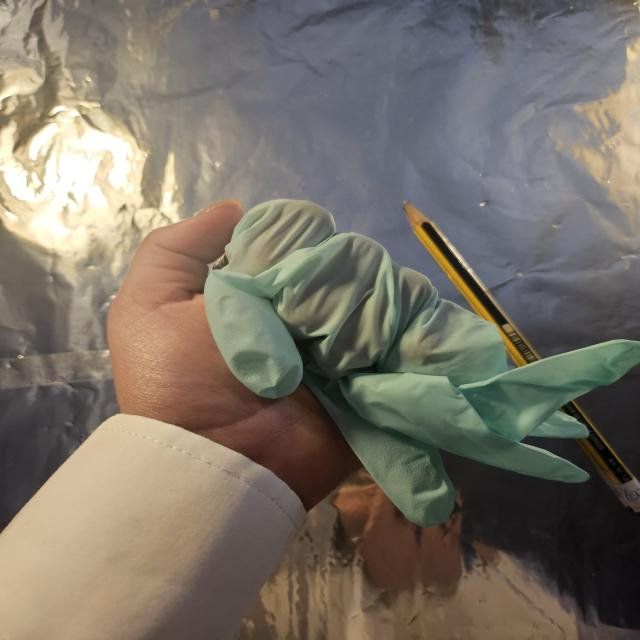glove_partial: (103, 198, 640, 525)
